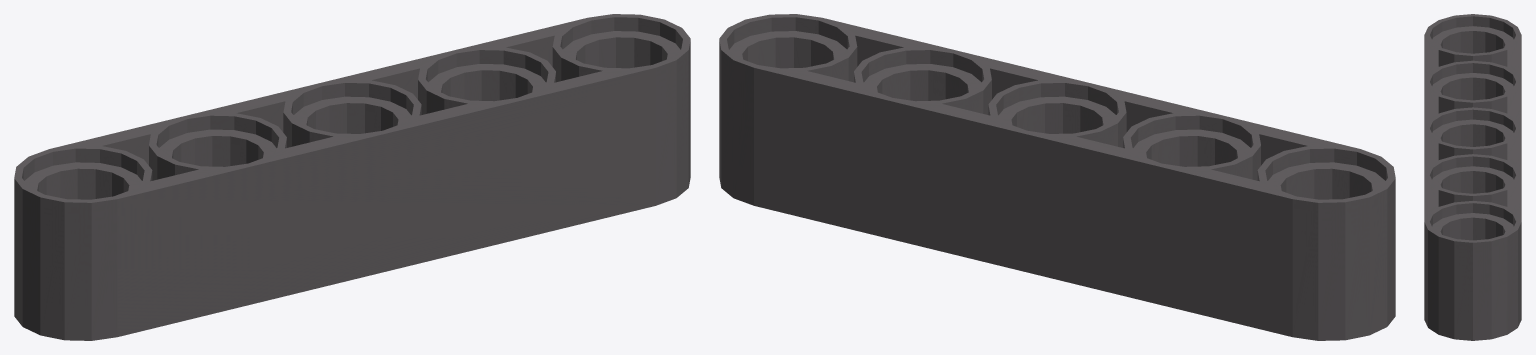
The model's file is beam_5M.dae.
3 views of the same model, side by side, from view 1: azimuth 30°, elevation 25°; view 2: azimuth 150°, elevation 25°; view 3: azimuth 270°, elevation 25° (orthographic). The views are drawn at different scales.
Visible parts, largest first — view 1: node; view 2: node; view 3: node.
Part boxes in pixels (x1,y1,x2,y2): node: [14, 14, 690, 340]; node: [719, 14, 1395, 340]; node: [1424, 14, 1521, 340].
Bounding box in the file's own units: 97.5 × 19.5 × 17.5.
Materials: 1 (1 with a texture image).
